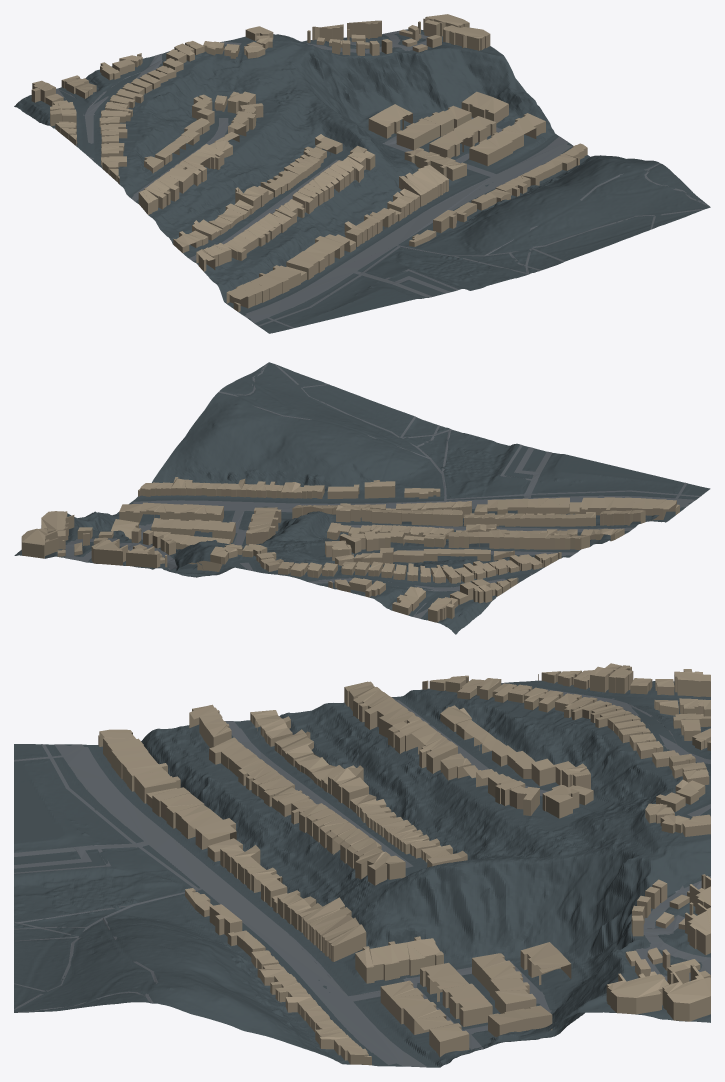
Rendered from epsg26910-1433-10869.lod0.glb.
The picture shows the model from 3 angles, top to bottom: view 1: azimuth 30°, elevation 25°; view 2: azimuth 150°, elevation 25°; view 3: azimuth 270°, elevation 25°; orthographic projection. The views are drawn at different scales.
Visible parts, largest first — view 1: epsg26910-1433-10869-lod0; view 2: epsg26910-1433-10869-lod0; view 3: epsg26910-1433-10869-lod0.
Boxes of the visible parts, box(x1,y1,x2,y2) form: epsg26910-1433-10869-lod0: box(14, 14, 710, 333); epsg26910-1433-10869-lod0: box(14, 362, 710, 634); epsg26910-1433-10869-lod0: box(14, 663, 710, 1067).
Bounding box in the file's own units: 384 × 71.38 × 384.
